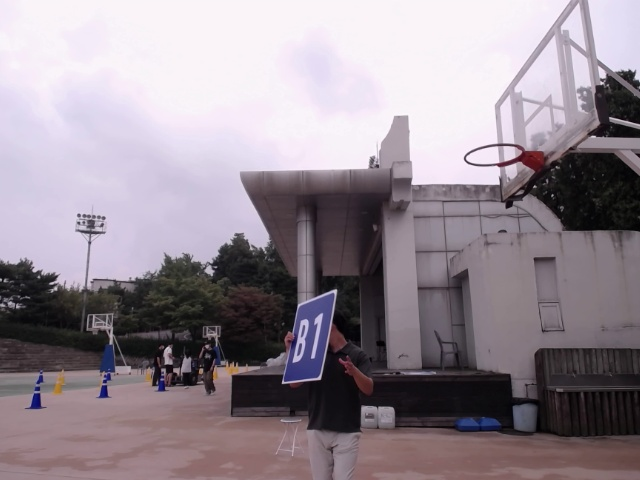delivery_b1: (282, 289, 337, 384)
